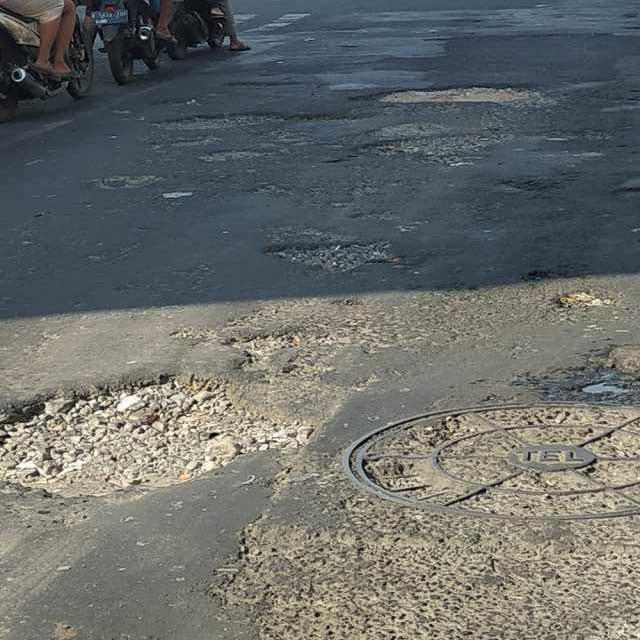lubang_kecil: (0, 345, 290, 543), (152, 93, 280, 176), (350, 126, 532, 173), (250, 220, 420, 268), (368, 68, 552, 110)
